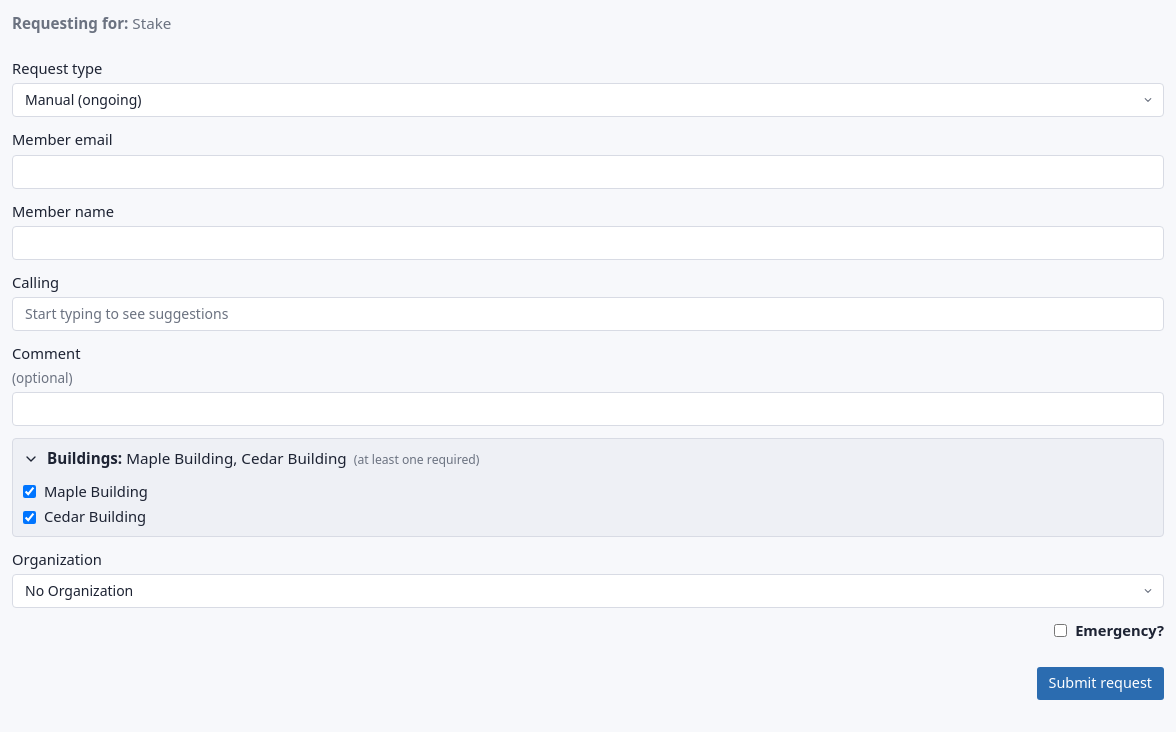
<NewRequestForm /> — buildings selector defaults › lets a stake user collapse the panel even though the role default is expanded
Click the button with test id "new-request-buildings-trigger" at (85, 458), box [23, 447, 1153, 470]
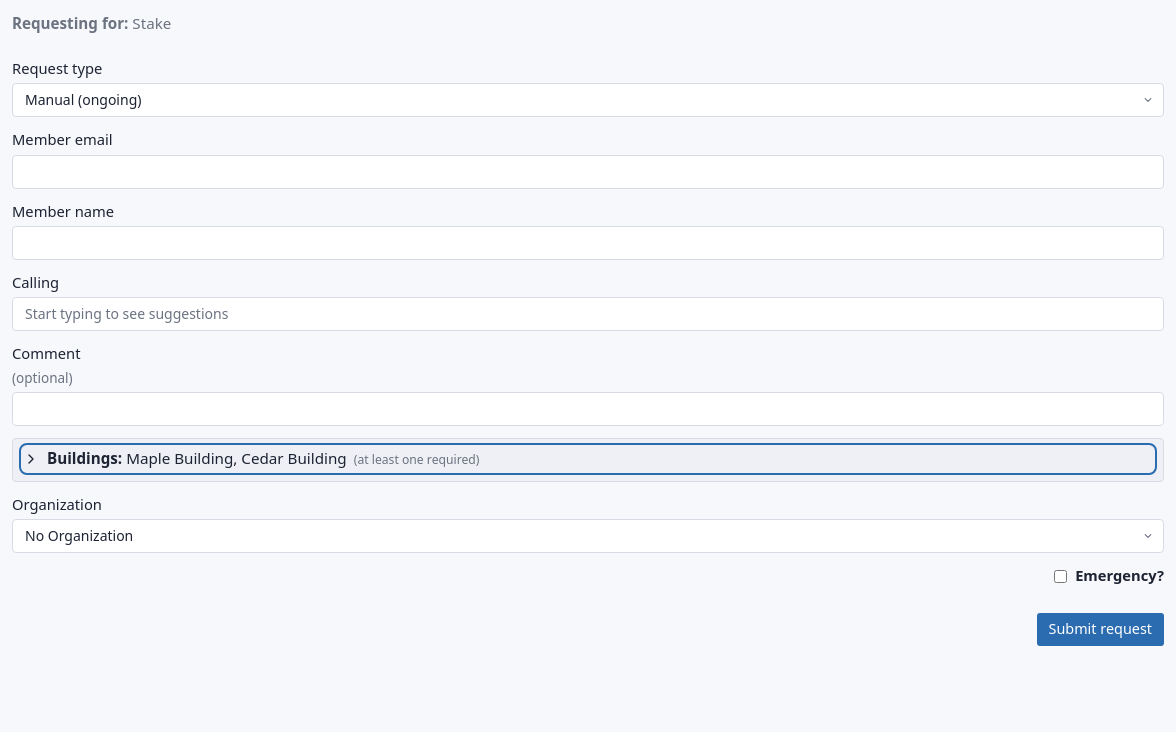
Result: the button with test id "new-request-buildings-trigger" is collapsed at [23, 447, 1153, 470]
